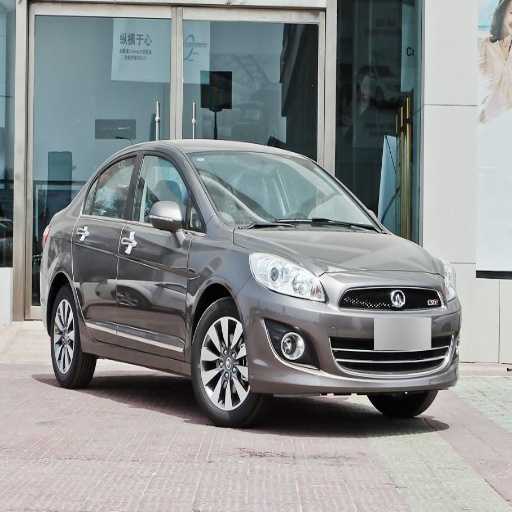front_bumper: (242, 274, 461, 393)
front_right_door: (118, 151, 198, 357)
front_right_light: (249, 253, 326, 302)
